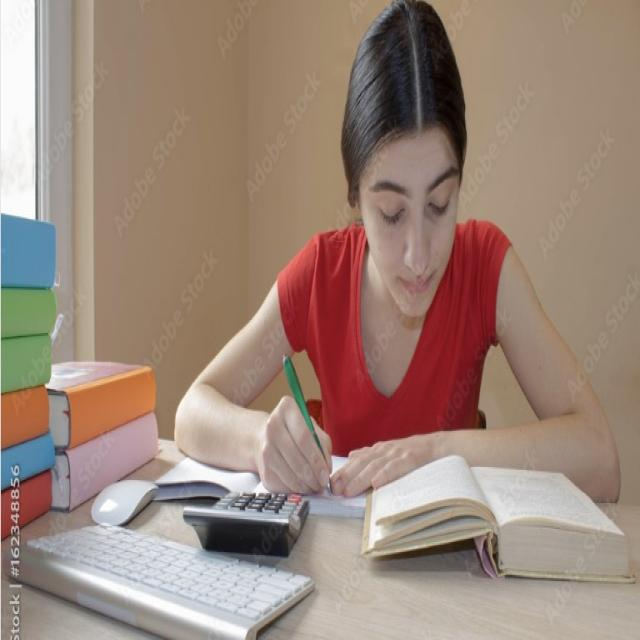studying-person: (150, 0, 634, 628)
